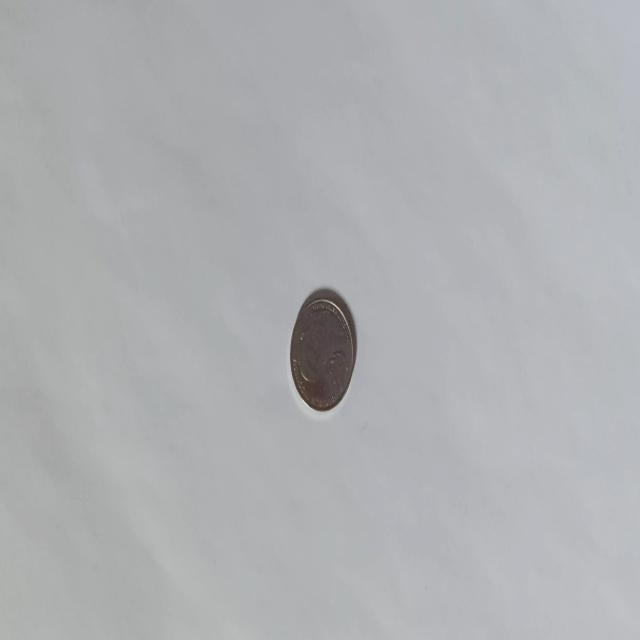seribu rupiah koin: (288, 287, 356, 413)
